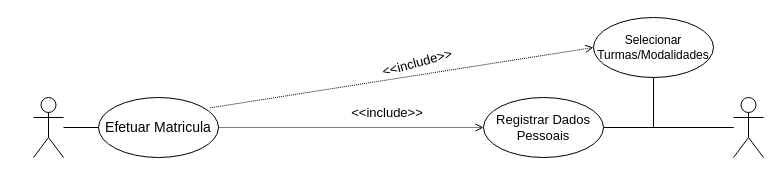
Image size: 781x196. Some labels were removed from this diagram. Each missing label, with the centre of its shape:
Aluno: point 748,127
Funcionario: point 48,127
